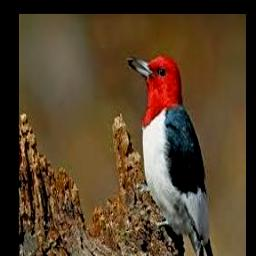Woodpecker: (128, 55, 217, 256)
